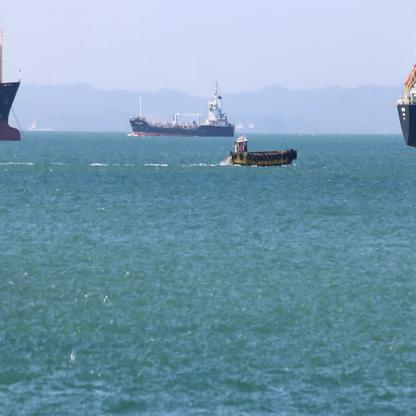Container Ship: (130, 79, 235, 138), (1, 28, 21, 143), (396, 65, 416, 148)
